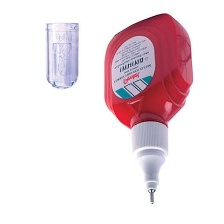correction_fluid: (102, 11, 195, 206)
